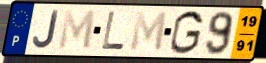9: (203, 9, 235, 56)
G: (168, 9, 205, 56)
J: (31, 9, 60, 51)
L: (100, 10, 126, 52)
M: (128, 10, 169, 54), (56, 9, 97, 52)
